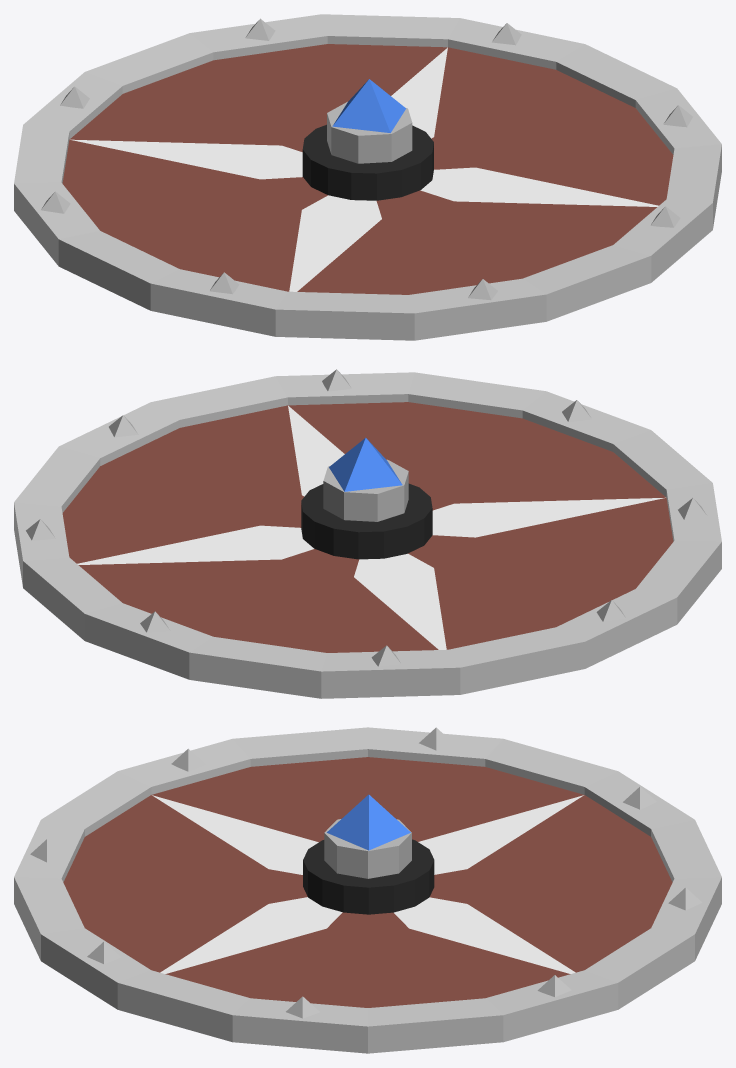
Rendered from Shield_1_d_r.fbx.
3 renders of one model, top to bottom at view 1: azimuth 30°, elevation 25°; view 2: azimuth 150°, elevation 25°; view 3: azimuth 270°, elevation 25°, orthographic.
Parts seen in each view (by area): view 1: Circle.100, Circle.099, Circle.098, Circle.102, Circle.101, Cone.235; view 2: Circle.100, Circle.099, Circle.098, Circle.102, Circle.101, Cone.235; view 3: Circle.100, Circle.099, Circle.098, Circle.102, Circle.101, Cone.235.
Part boxes in pixels (left/top/right/bottom): Circle.100: left=62, top=44, right=673, bottom=294; Circle.099: left=14, top=14, right=721, bottom=340; Circle.098: left=70, top=47, right=658, bottom=291; Circle.102: left=302, top=124, right=433, bottom=200; Circle.101: left=327, top=101, right=412, bottom=163; Cone.235: left=332, top=79, right=405, bottom=132; Circle.100: left=62, top=402, right=673, bottom=652; Circle.099: left=14, top=372, right=721, bottom=698; Circle.098: left=77, top=405, right=665, bottom=649; Circle.102: left=301, top=483, right=432, bottom=559; Circle.101: left=323, top=459, right=408, bottom=521; Cone.235: left=329, top=437, right=402, bottom=491; Circle.100: left=63, top=757, right=672, bottom=1007; Circle.099: left=14, top=727, right=721, bottom=1053; Circle.098: left=152, top=795, right=583, bottom=973; Circle.102: left=303, top=839, right=434, bottom=914; Circle.101: left=324, top=819, right=411, bottom=878; Cone.235: left=327, top=794, right=410, bottom=850.
Bounding box in the file's own units: 80.85 × 24.85 × 80.85.
